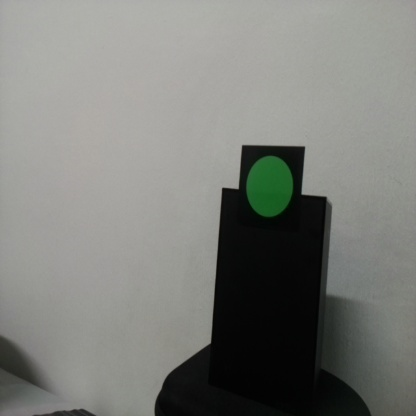id_5: (241, 147, 303, 231)
